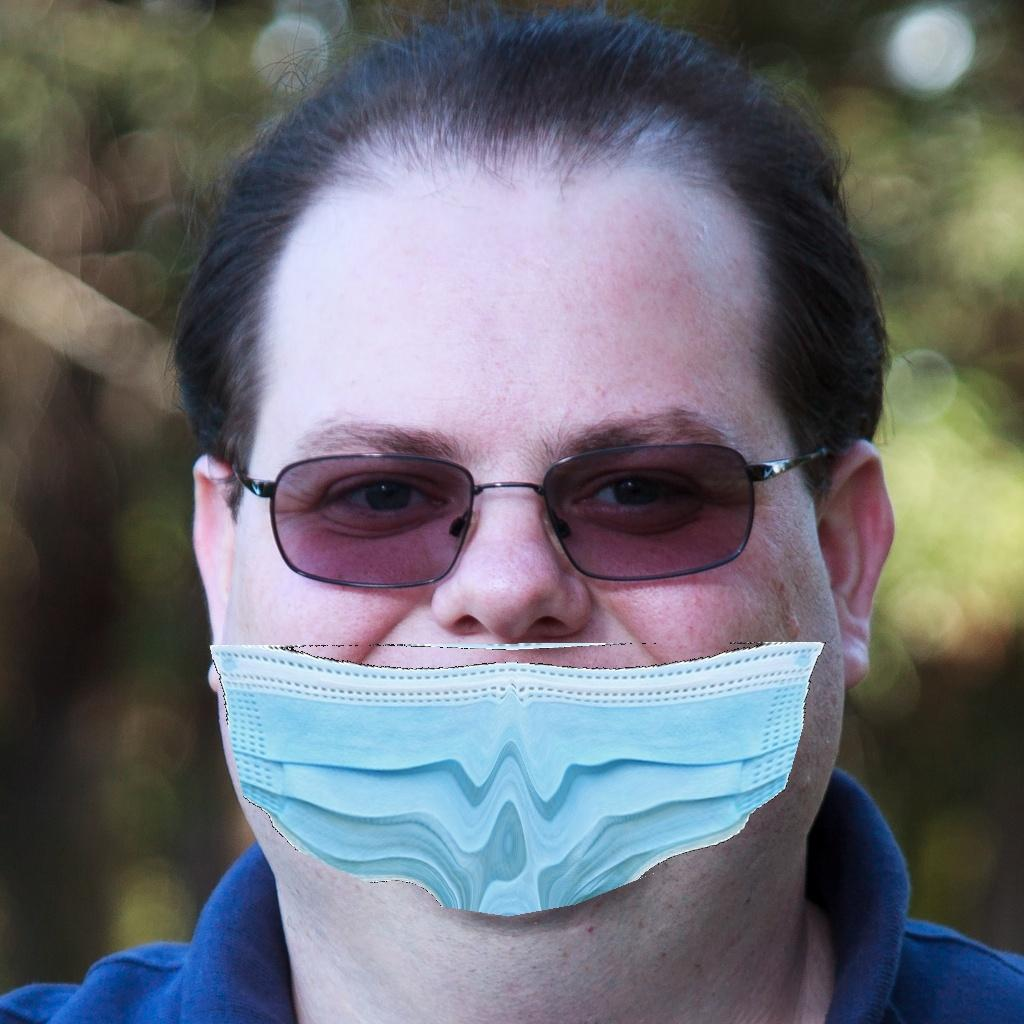Máscara Incorreta: (220, 250, 825, 943)
